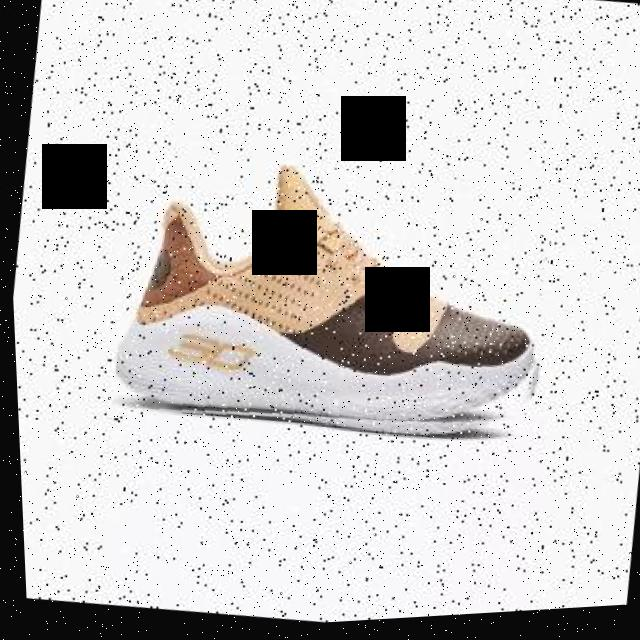shoe: (99, 135, 566, 471)
